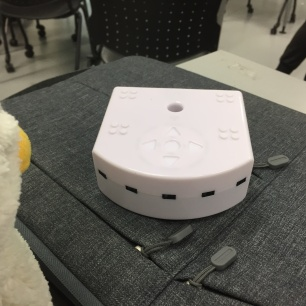thymio: (87, 79, 260, 227)
